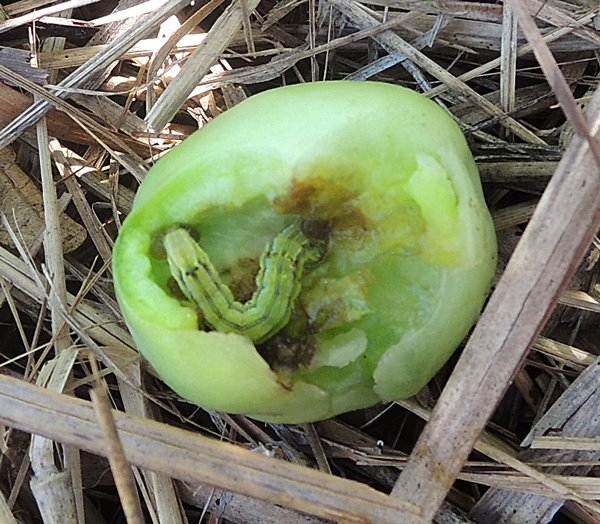Armyworm: (168, 213, 323, 348)
